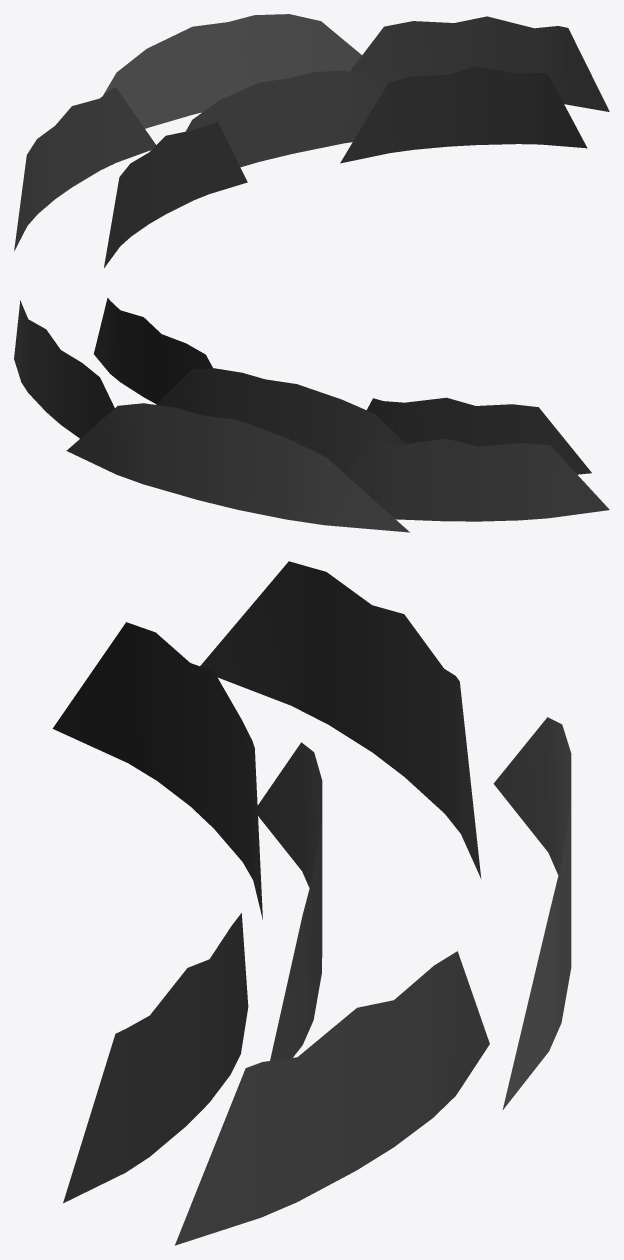
File: SM_Env_Background_Land_01.fbx
The picture shows the model from 3 angles, top to bottom: view 1: azimuth 30°, elevation 25°; view 2: azimuth 150°, elevation 25°; view 3: azimuth 270°, elevation 25°; orthographic projection. The views are drawn at different scales.
Parts seen in each view (by area): view 1: SM_Env_Background_Land_01; view 2: SM_Env_Background_Land_01; view 3: SM_Env_Background_Land_01.
Boxes of the visible parts, left/top/right/bottom form: SM_Env_Background_Land_01: left=14, top=14, right=609, bottom=267; SM_Env_Background_Land_01: left=14, top=298, right=609, bottom=532; SM_Env_Background_Land_01: left=52, top=561, right=571, bottom=1245.
Bounding box in the file's own units: 16091 × 2448 × 6124.
